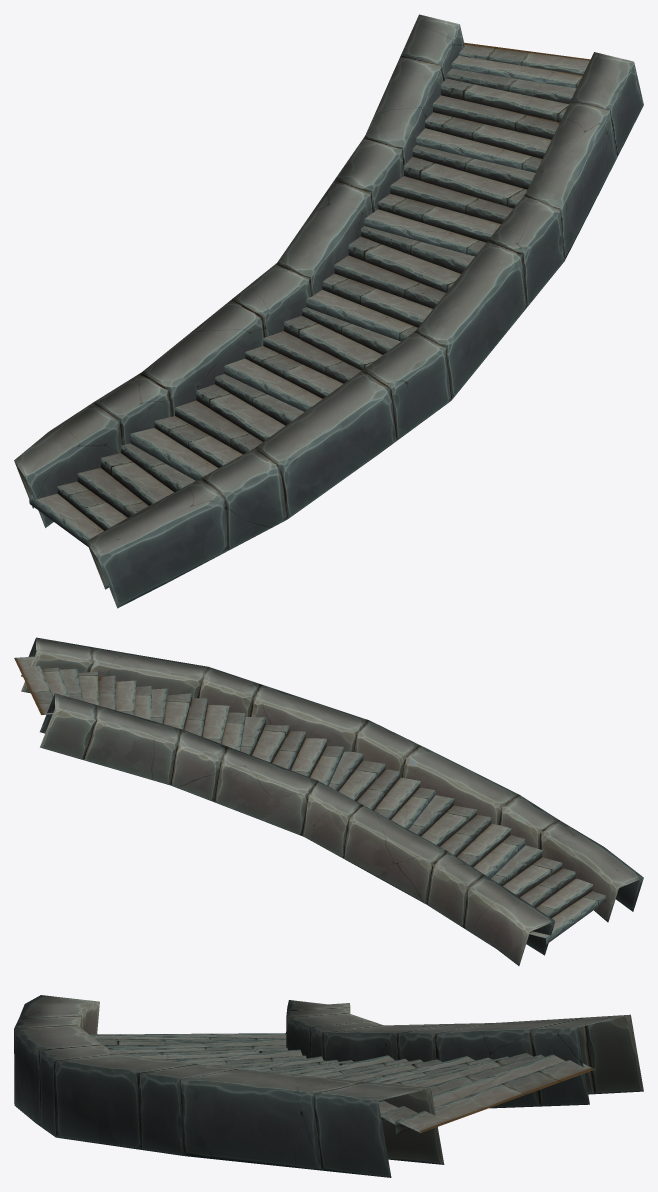
File: SM_Stair_Merged_03.glb
3 views of the same model, one above another, from view 1: azimuth 30°, elevation 25°; view 2: azimuth 150°, elevation 25°; view 3: azimuth 270°, elevation 25° (orthographic). The views are drawn at different scales.
Visible parts, largest first — view 1: SM_Stair_Merged_03; view 2: SM_Stair_Merged_03; view 3: SM_Stair_Merged_03.
Part boxes in pixels (left/top/right/bottom): SM_Stair_Merged_03: left=14, top=14, right=643, bottom=608; SM_Stair_Merged_03: left=14, top=637, right=643, bottom=965; SM_Stair_Merged_03: left=14, top=995, right=643, bottom=1177.
Size of the model in its own units: 19.81 by 8.41 by 12.02.
2 materials, 2 textured.
